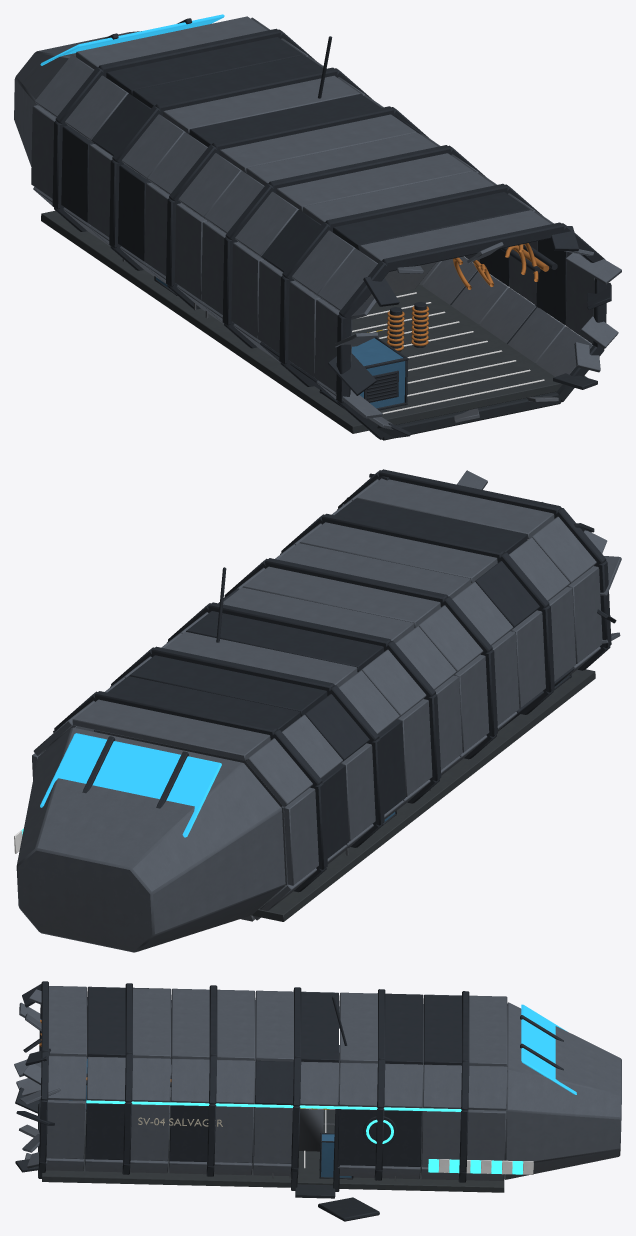
The model's file is sv04_fore.glb.
3 renders of one model, top to bottom at view 1: azimuth 30°, elevation 25°; view 2: azimuth 150°, elevation 25°; view 3: azimuth 270°, elevation 25°, orthographic. The views are drawn at different scales.
Visible parts, largest first — view 1: sv04_fore; view 2: sv04_fore; view 3: sv04_fore.
Boxes of the visible parts, left/top/right/bottom form: sv04_fore: left=14, top=14, right=621, bottom=440; sv04_fore: left=14, top=469, right=621, bottom=952; sv04_fore: left=14, top=981, right=621, bottom=1221.
Size of what is drawn, in the model's own units: 14.87 by 9.5 by 28.92.
Materials: 22 (17 with a texture image).
